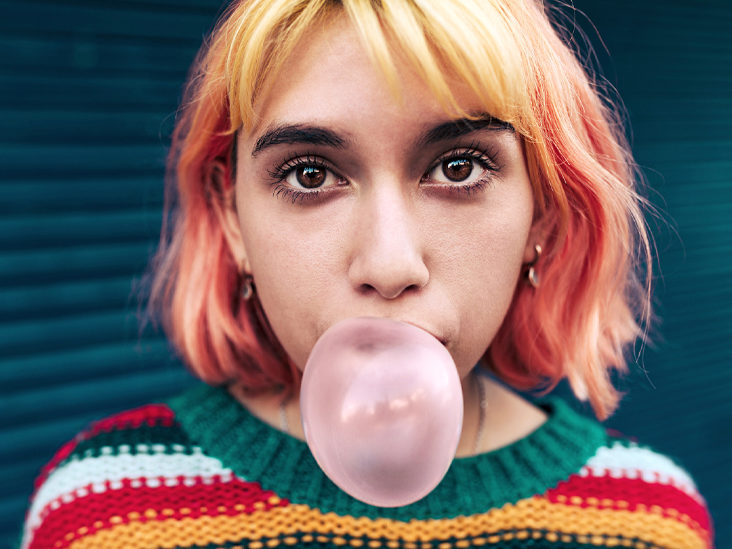bare: (246, 209, 531, 389)
